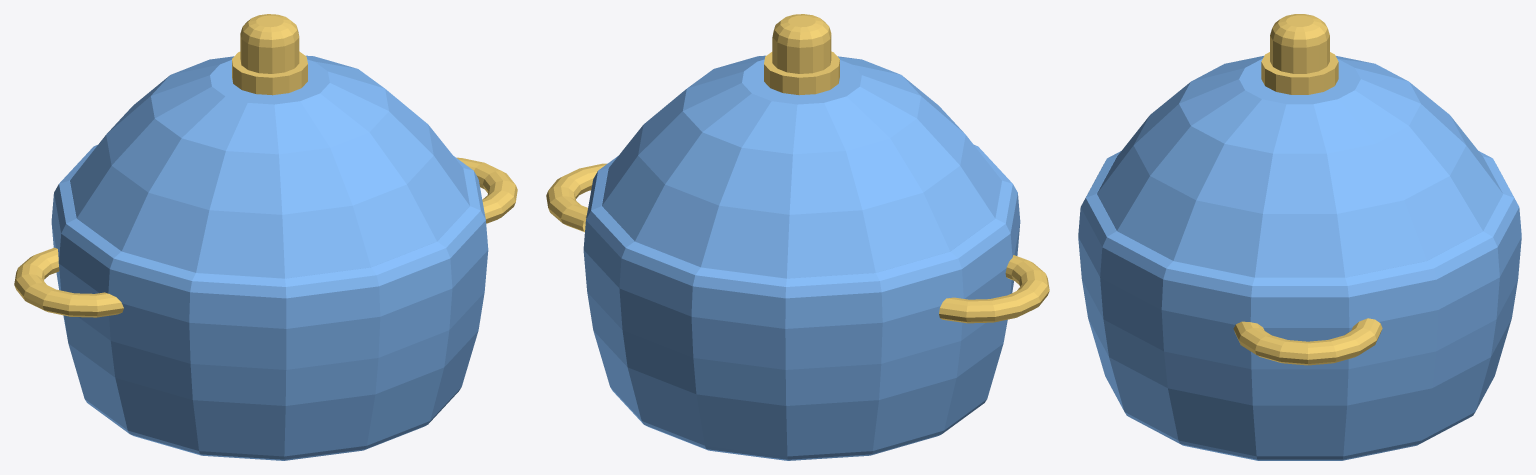
File: Pot_21.fbx
The picture shows the model from 3 angles, left to right: view 1: azimuth 30°, elevation 25°; view 2: azimuth 150°, elevation 25°; view 3: azimuth 270°, elevation 25°; orthographic projection.
Visible parts, largest first — view 1: Pot_21; view 2: Pot_21; view 3: Pot_21.
Part boxes in pixels (x1,y1,x2,y2): Pot_21: (14,14,517,460); Pot_21: (546,14,1049,460); Pot_21: (1078,14,1521,460).
Size of the model in its own units: 0.2508 by 0.179 by 0.1979.
